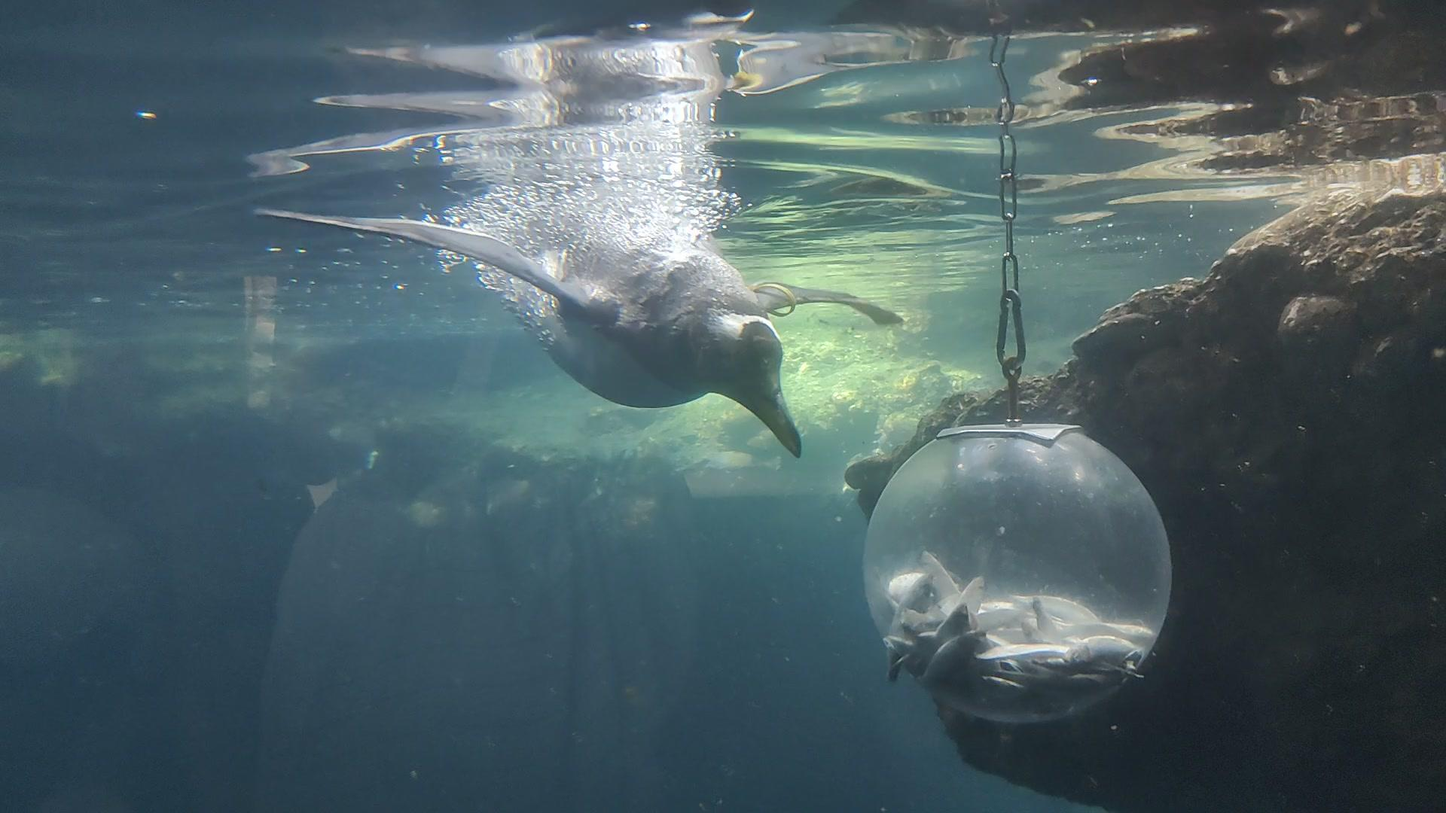apple: (253, 208, 904, 459)
